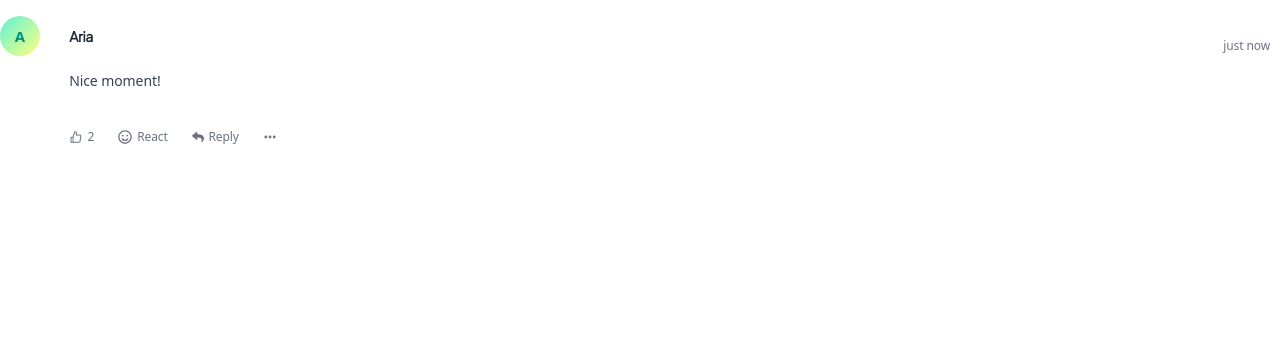
Test: CommentItem › toggles the inline reply composer from the reply button
Click the button with test id "comment-reply" at coordinates (215, 136), box [182,124,248,149]
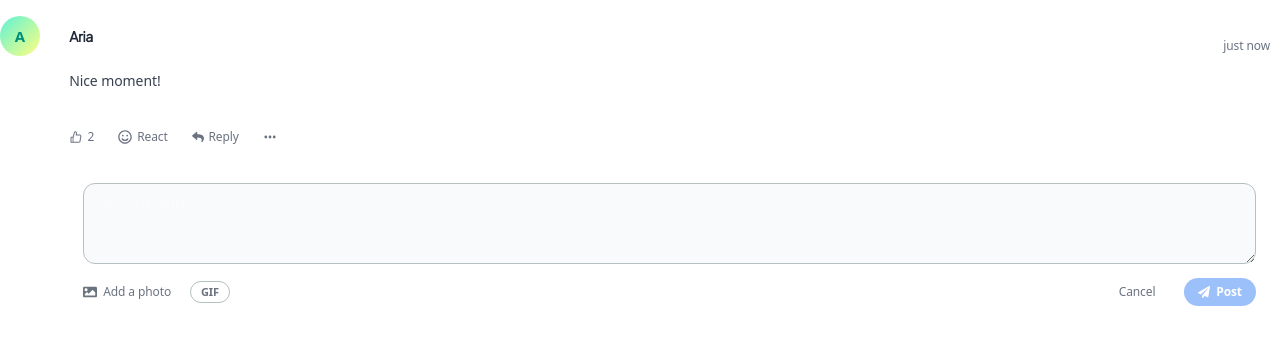
Now the form with test id "comment-composer" is shown, box [59,159,1279,330]
Click the button with test id "comment-reply" at coordinates (215, 136), box [182,124,248,149]
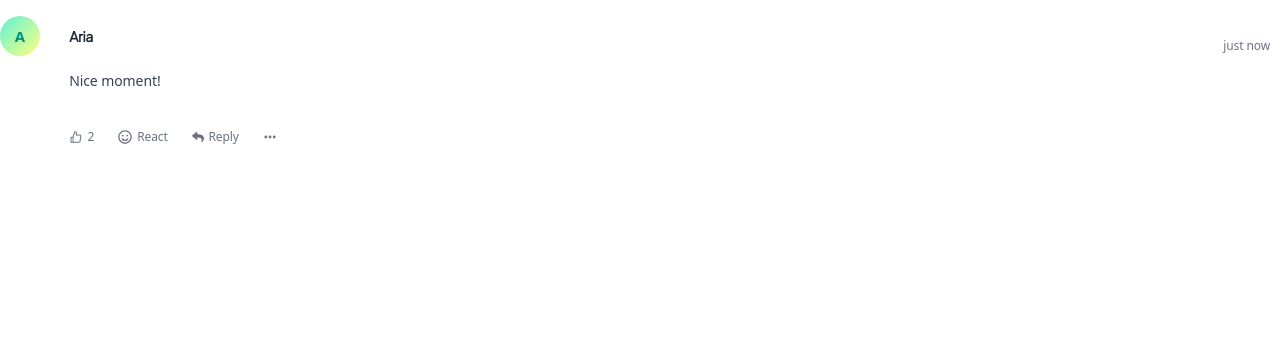
Now the form with test id "comment-composer" is gone
